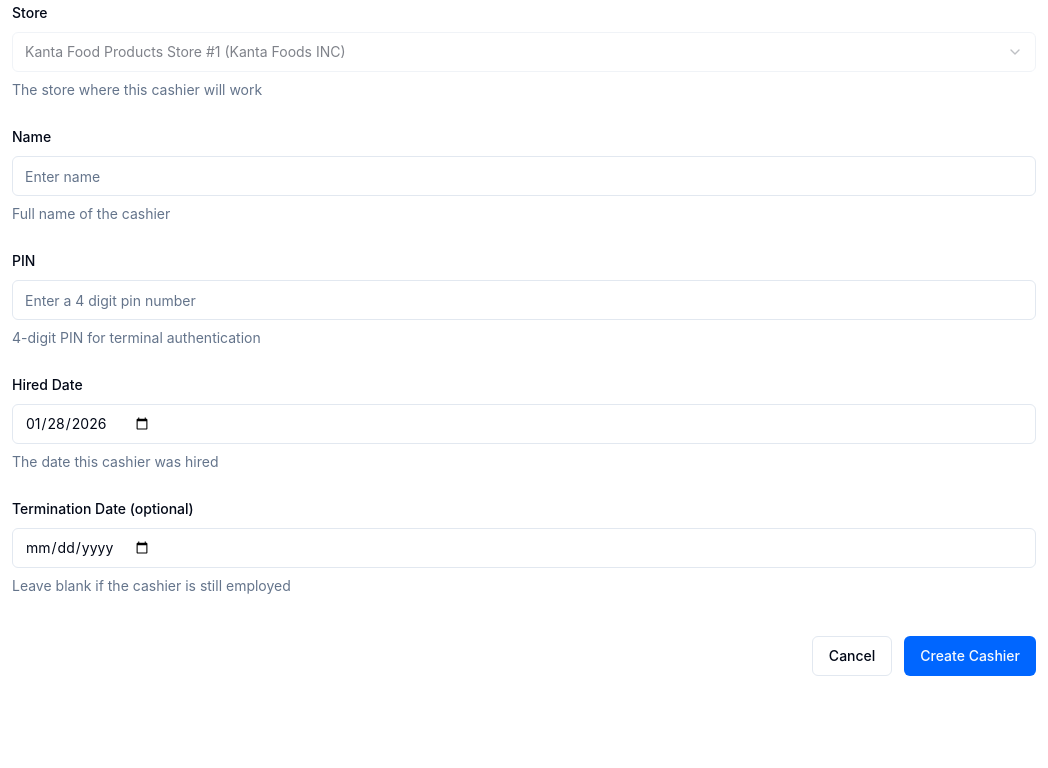
Test: 4.9-COMPONENT: CashierForm - PIN Validation › [P0] 4.9-COMPONENT-010: should reject PIN with less than 4 digits
This screenshot has width=1048, height=768.
Check: the text "Kanta Food Products Store #1 (Kanta Foods INC)" is shown, box [25,42,346,62]
User enters invalid PIN (less than 4 digits)
Type "Test Cashier" into the field with test id "cashier-name" at (524, 176), box [12,156,1036,196]
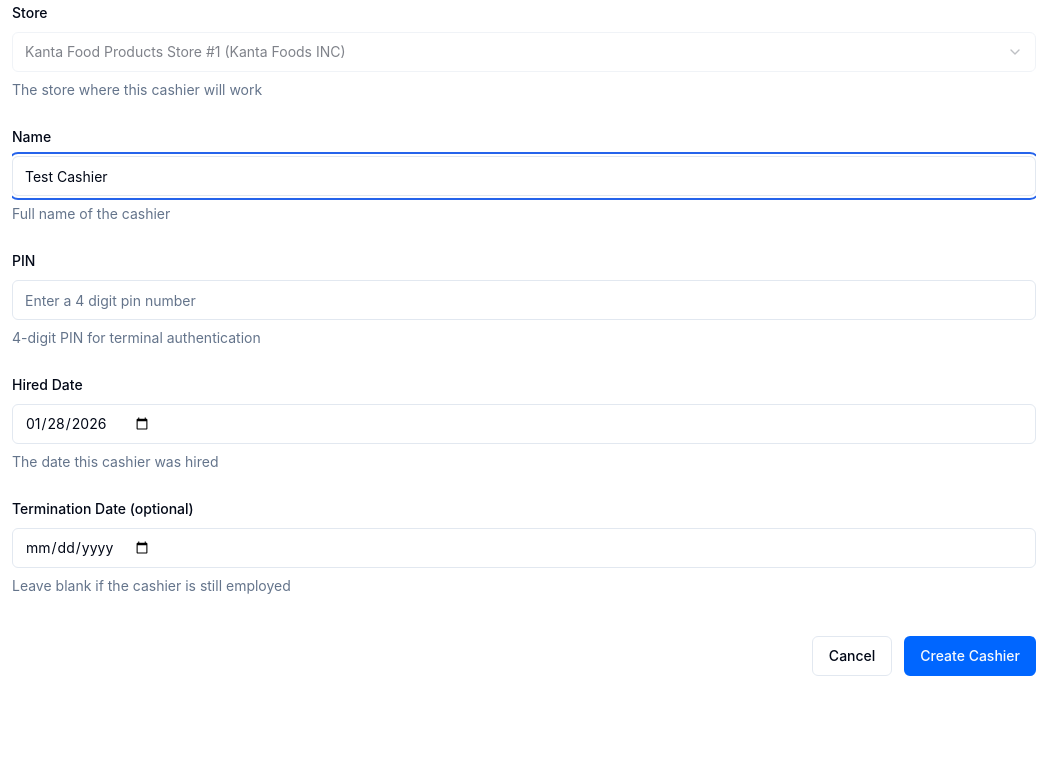
Type "123" into the password field with test id "cashier-pin" at (524, 300), box [12,280,1036,320]
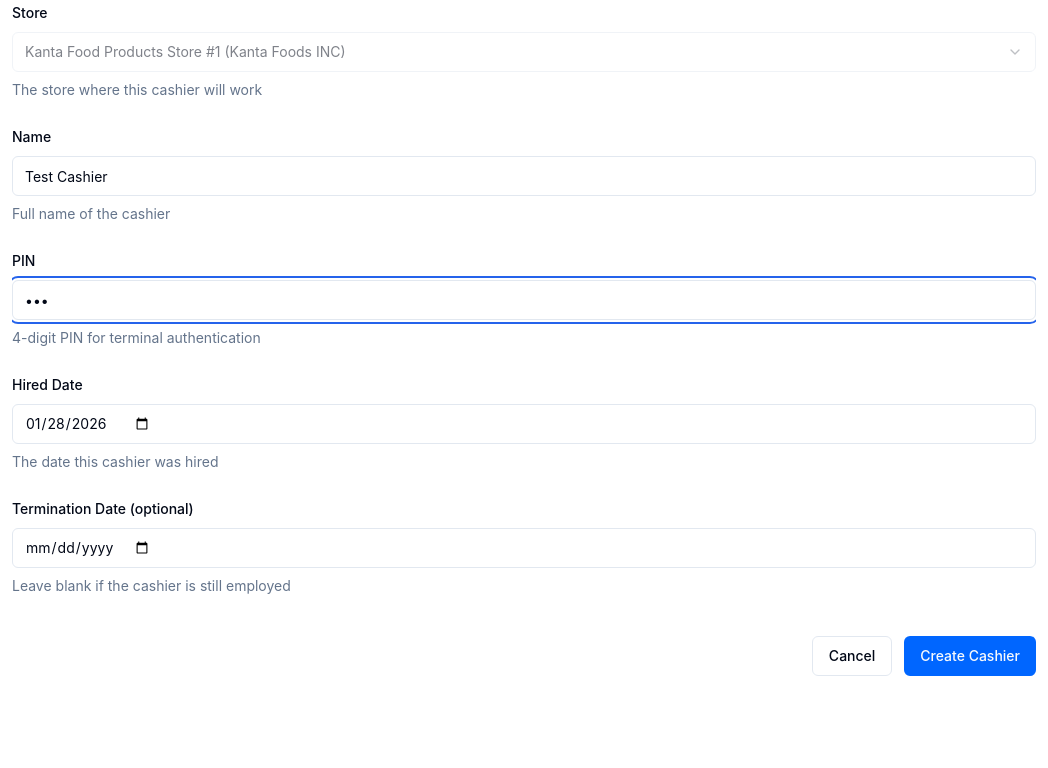
Click the button with test id "submit-cashier" at (970, 656), box [904,636,1036,676]
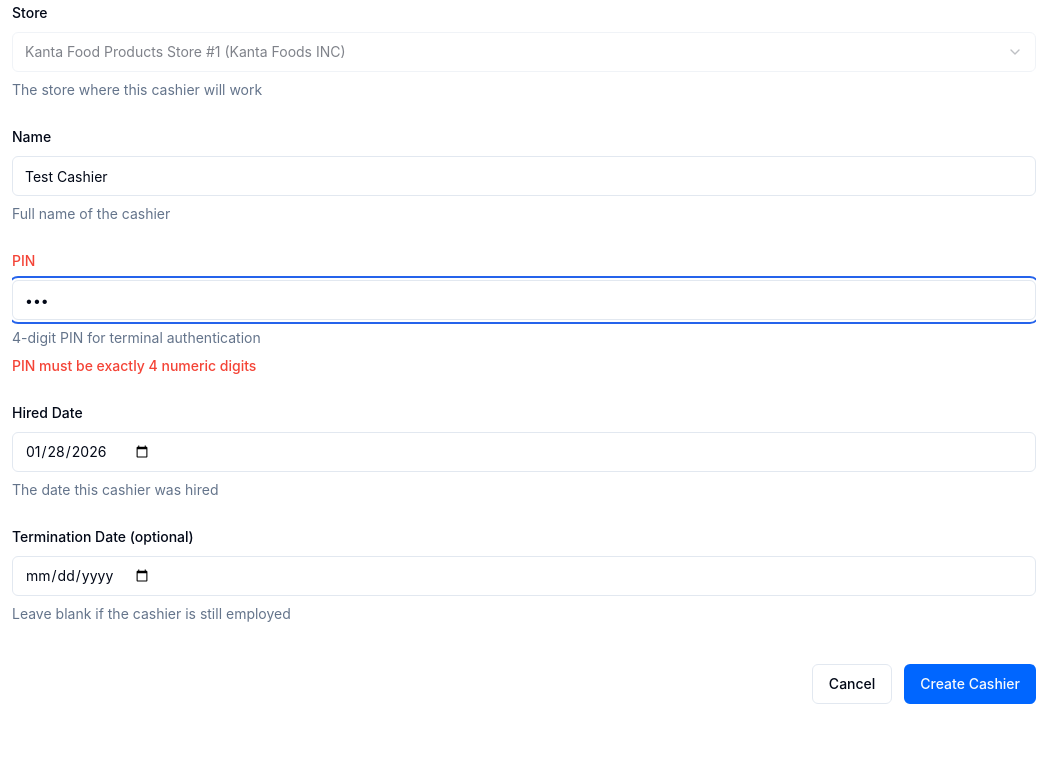
Check: the text "PIN must be exactly 4 numeric digits" is shown, box [12,357,256,374]
